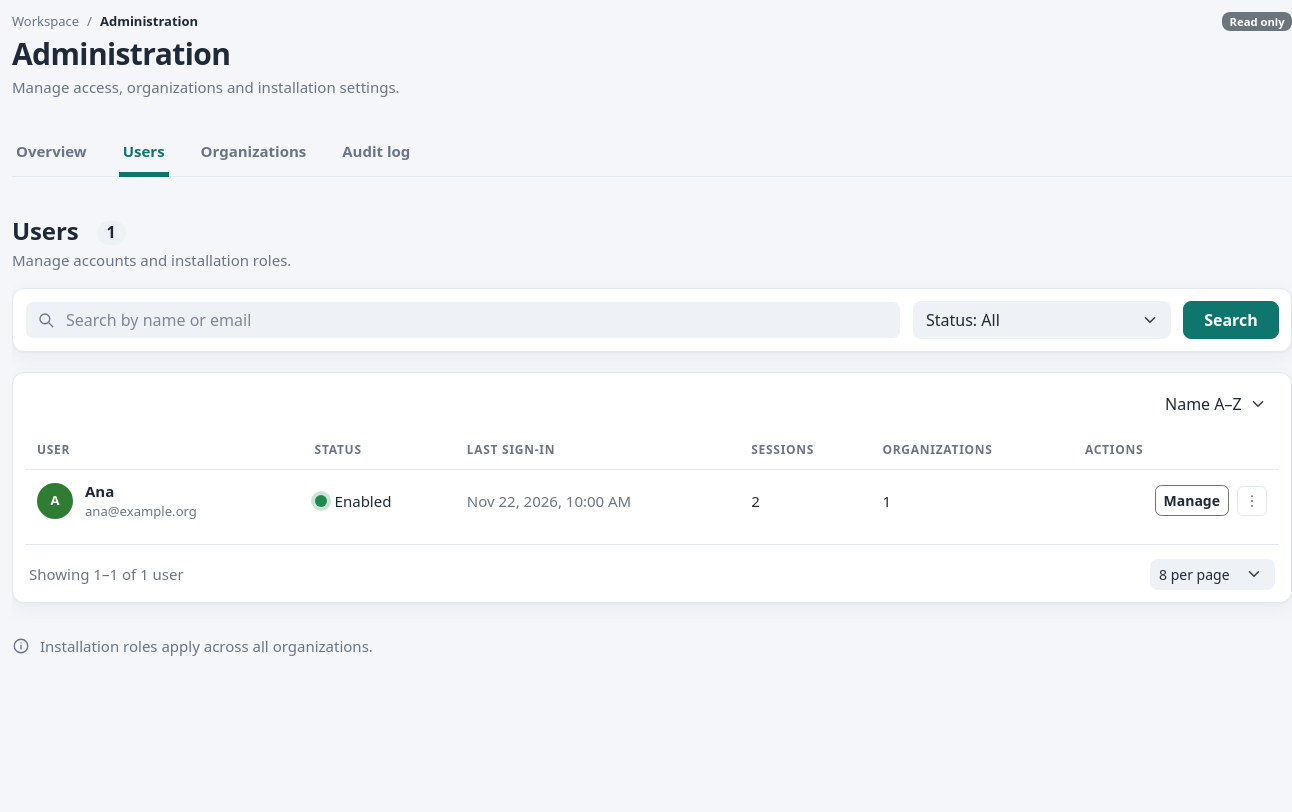
Test case: AdminPage › gives auditors a read-only view
Later steps or results of the test are not shown.
Click the button named "More actions for Ana": (1252, 501) [1237,486,1267,516]
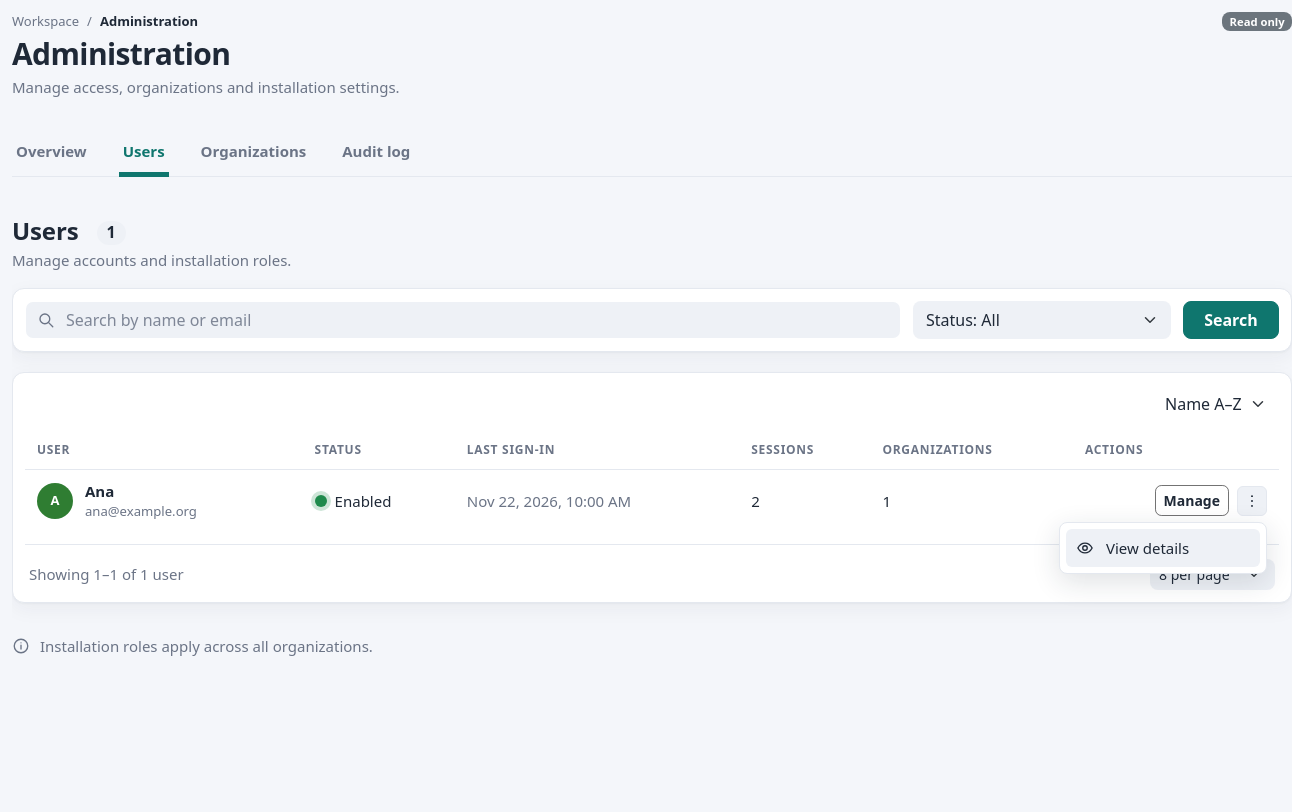
expect the menu items read "View details", in this order: met, box [1066,529,1260,567]
